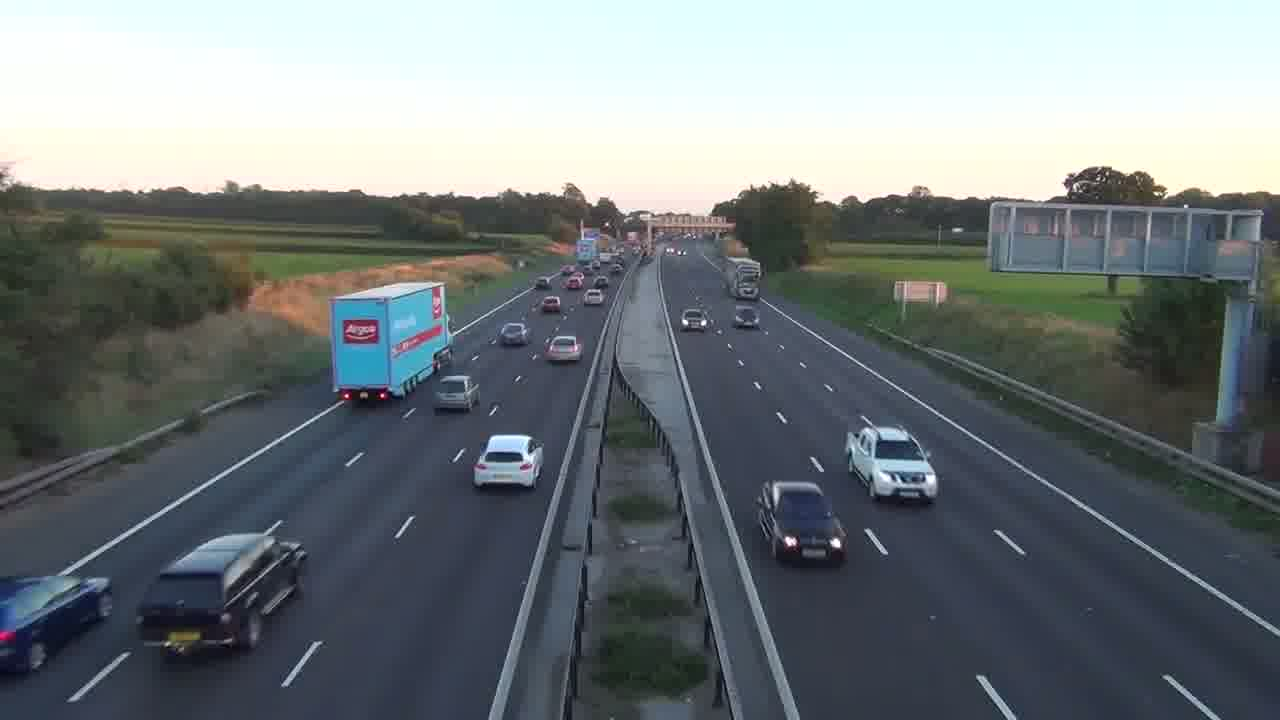car: (754, 480, 849, 567), (472, 433, 544, 490), (433, 374, 481, 413), (544, 334, 582, 363), (497, 321, 531, 347), (680, 308, 706, 332), (541, 295, 562, 313)
truck: (134, 519, 309, 659), (330, 280, 452, 403), (0, 572, 115, 675), (844, 423, 940, 505)
